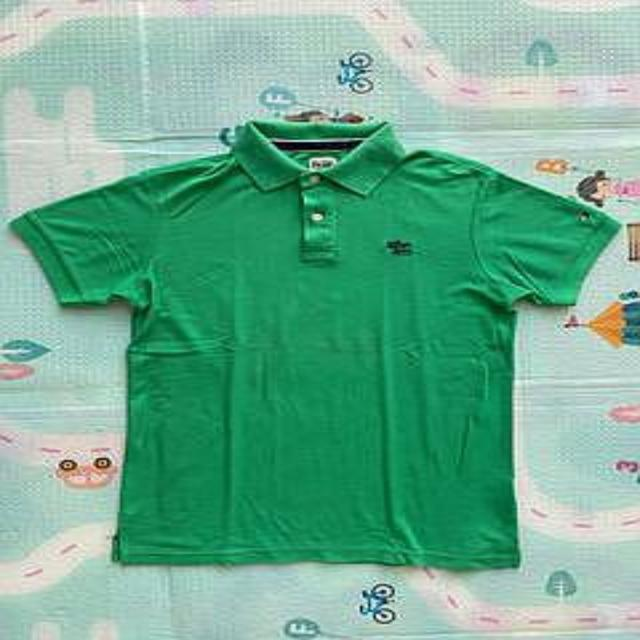T_SHIRT: (0, 98, 631, 577)
